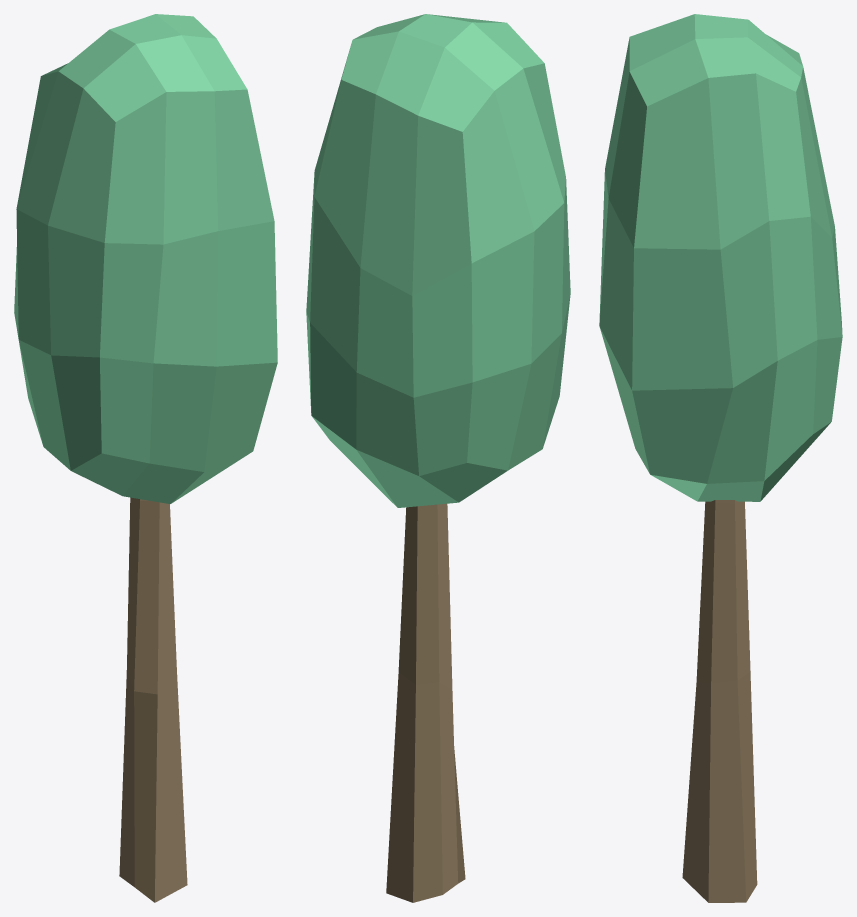
File: skinnyTree.fbx
3 views of the same model, side by side, from view 1: azimuth 30°, elevation 25°; view 2: azimuth 150°, elevation 25°; view 3: azimuth 270°, elevation 25° (orthographic).
Visible parts, largest first — view 1: Cube, Cylinder; view 2: Cube, Cylinder; view 3: Cube, Cylinder.
Part boxes in pixels (bbox=[...]): Cube: bbox=[14, 14, 277, 503]; Cylinder: bbox=[119, 497, 187, 902]; Cube: bbox=[306, 14, 570, 507]; Cylinder: bbox=[386, 503, 465, 902]; Cube: bbox=[599, 14, 842, 501]; Cylinder: bbox=[682, 500, 757, 902].
Size of the model in its own units: 430 by 1629 by 417.
